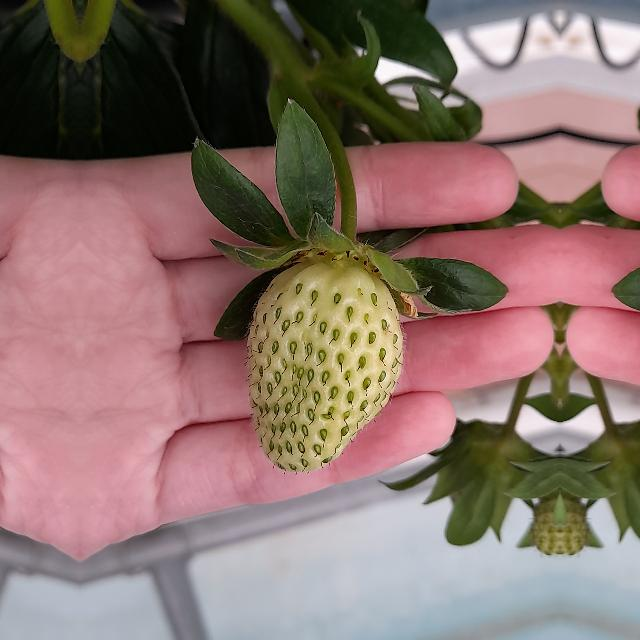Health_25: (246, 263, 402, 471)
